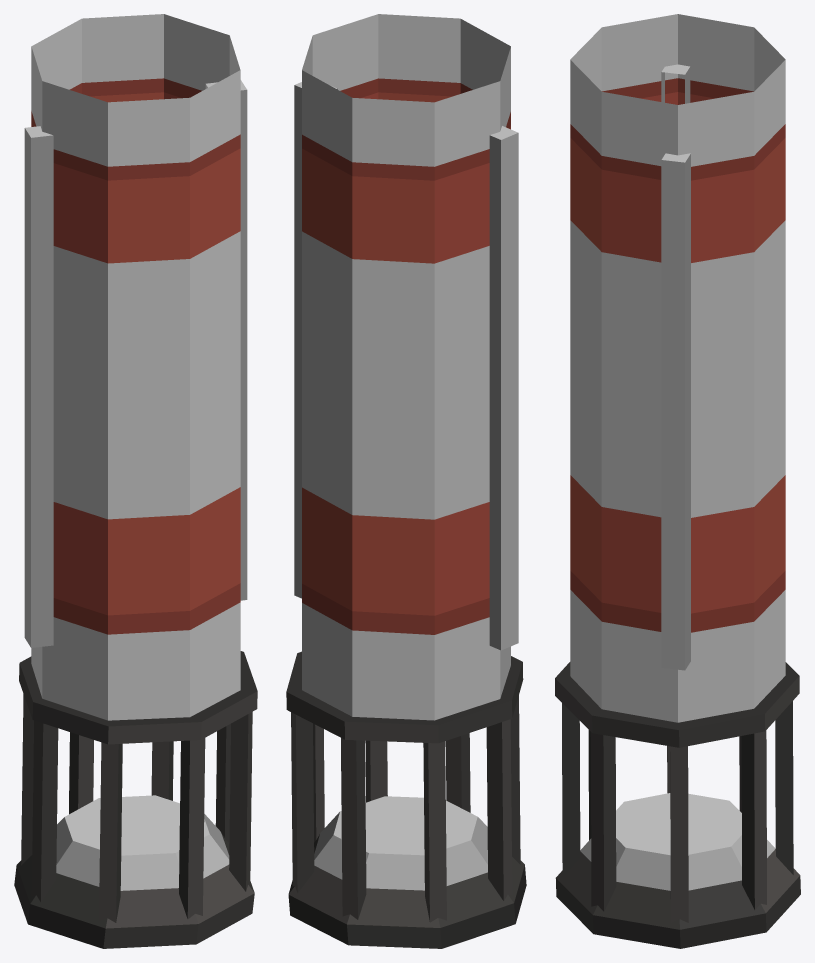
3 views of the same model, side by side, from view 1: azimuth 30°, elevation 25°; view 2: azimuth 150°, elevation 25°; view 3: azimuth 270°, elevation 25° (orthographic).
Visible parts, largest first — view 1: SM_Veh_Rocket_20; view 2: SM_Veh_Rocket_20; view 3: SM_Veh_Rocket_20.
Part boxes in pixels (x1,y1,x2,y2): SM_Veh_Rocket_20: [14, 14, 257, 948]; SM_Veh_Rocket_20: [286, 14, 526, 948]; SM_Veh_Rocket_20: [555, 14, 800, 948].
Bounding box in the file's own units: 1.91 × 7.07 × 1.88.
1 material, 1 textured.
